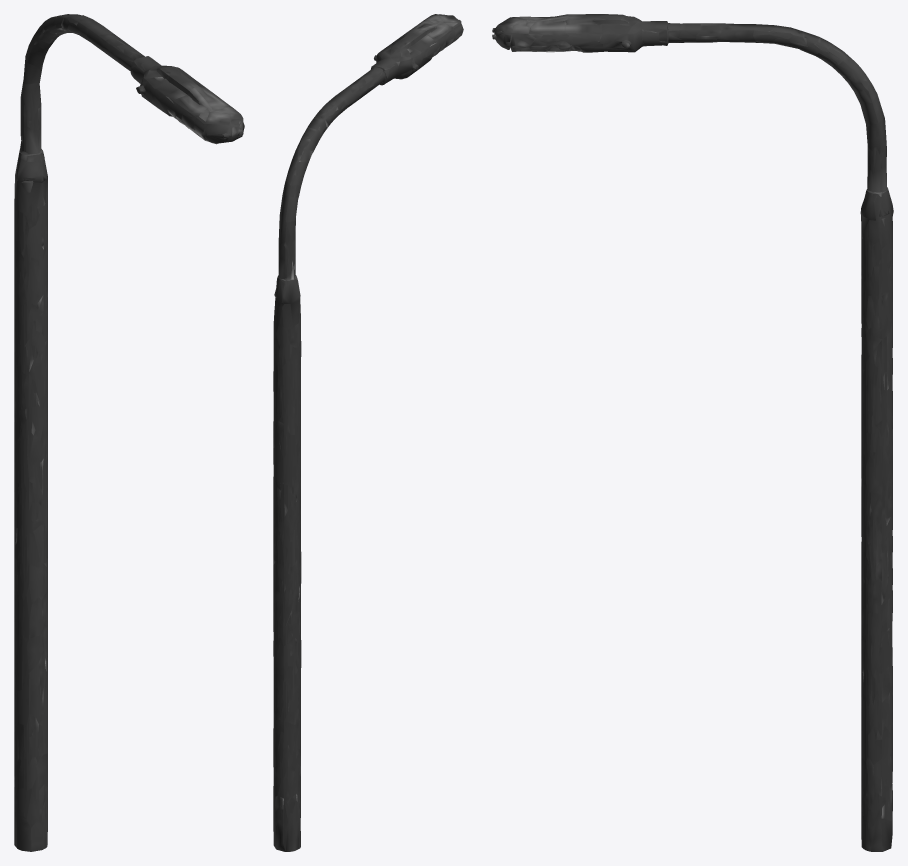
File: lampe.glb
3 renders of one model, left to right at view 1: azimuth 30°, elevation 25°; view 2: azimuth 150°, elevation 25°; view 3: azimuth 270°, elevation 25°, orthographic. The views are drawn at different scales.
Bounding box in the file's own units: 0.1166 × 1.9 × 0.8332.
1 material, 1 textured.
